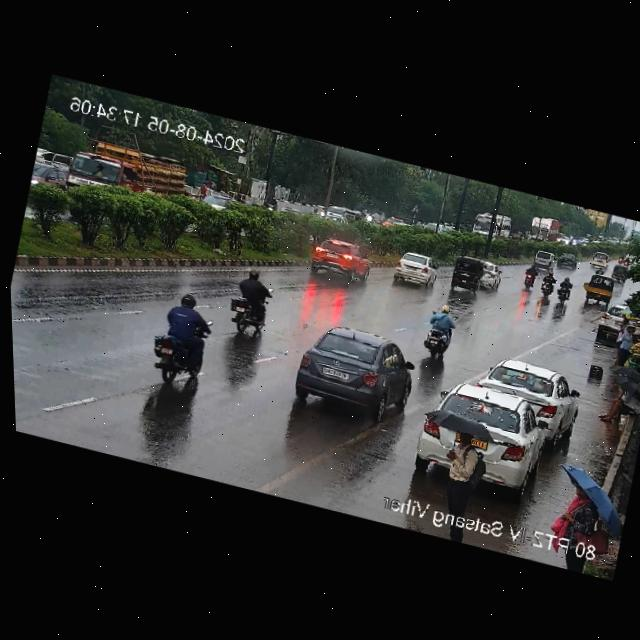car: (282, 318, 420, 428), (424, 379, 558, 474), (473, 351, 584, 435), (301, 233, 372, 288), (390, 247, 442, 293), (588, 296, 632, 335), (445, 253, 485, 295), (580, 271, 616, 307), (479, 260, 506, 291), (526, 246, 558, 269), (554, 249, 578, 269), (608, 263, 629, 283)
motorcycle: (140, 287, 222, 393), (222, 268, 283, 343), (415, 300, 465, 368), (517, 261, 540, 291), (553, 275, 575, 305)
person: (427, 419, 496, 524), (545, 477, 607, 572), (593, 383, 640, 433), (609, 316, 631, 363), (616, 324, 637, 366)
truck: (54, 134, 195, 215)
